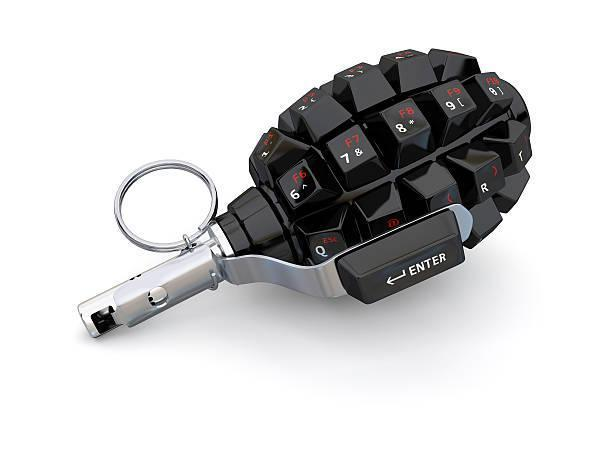Grenade: (76, 48, 532, 338)
